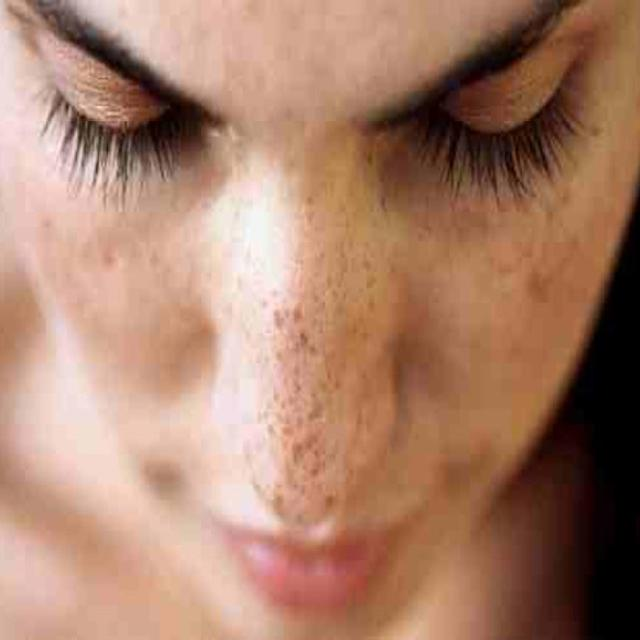Dark-Spots: (226, 138, 374, 530), (383, 170, 591, 389)
